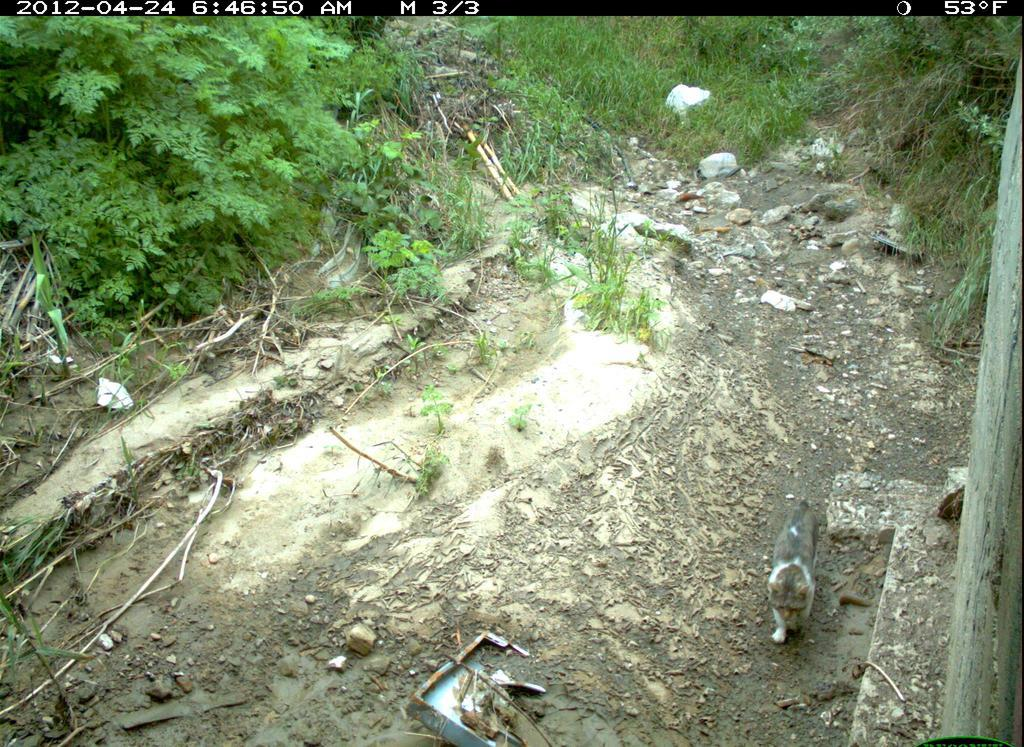cat: (760, 491, 830, 656)
